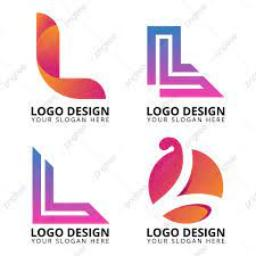l: (30, 11, 114, 103)
